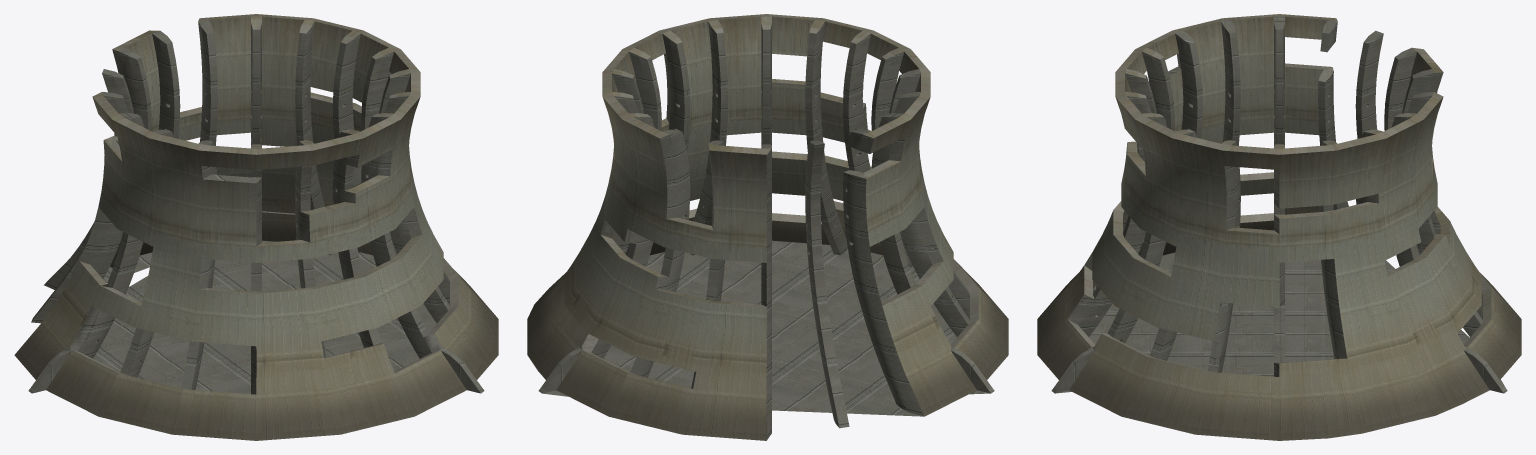
The model's file is cooling_tower.glb.
3 renders of one model, left to right at view 1: azimuth 30°, elevation 25°; view 2: azimuth 150°, elevation 25°; view 3: azimuth 270°, elevation 25°, orthographic.
Parts seen in each view (by area): view 1: mesh_155_Mesh_cool_tower_fins_subset_0, mesh_155_Mesh_cool_tower_fins_subset_1, mesh_155_Mesh_cool_tower_fins_subset_2; view 2: mesh_155_Mesh_cool_tower_fins_subset_0, mesh_155_Mesh_cool_tower_fins_subset_1, mesh_155_Mesh_cool_tower_fins_subset_2; view 3: mesh_155_Mesh_cool_tower_fins_subset_0, mesh_155_Mesh_cool_tower_fins_subset_1, mesh_155_Mesh_cool_tower_fins_subset_2.
Part boxes in pixels (x1,y1,x2,y2): mesh_155_Mesh_cool_tower_fins_subset_0: (14,16,498,440); mesh_155_Mesh_cool_tower_fins_subset_1: (28,20,484,394); mesh_155_Mesh_cool_tower_fins_subset_2: (73,14,458,389); mesh_155_Mesh_cool_tower_fins_subset_0: (527,16,1008,440); mesh_155_Mesh_cool_tower_fins_subset_1: (538,22,994,440); mesh_155_Mesh_cool_tower_fins_subset_2: (583,14,978,388); mesh_155_Mesh_cool_tower_fins_subset_0: (1037,16,1521,440); mesh_155_Mesh_cool_tower_fins_subset_1: (1051,16,1507,393); mesh_155_Mesh_cool_tower_fins_subset_2: (1068,14,1491,376).
Size of the model in its own units: 50.32 by 27.86 by 48.04.
Materials: 3 (3 with a texture image).
